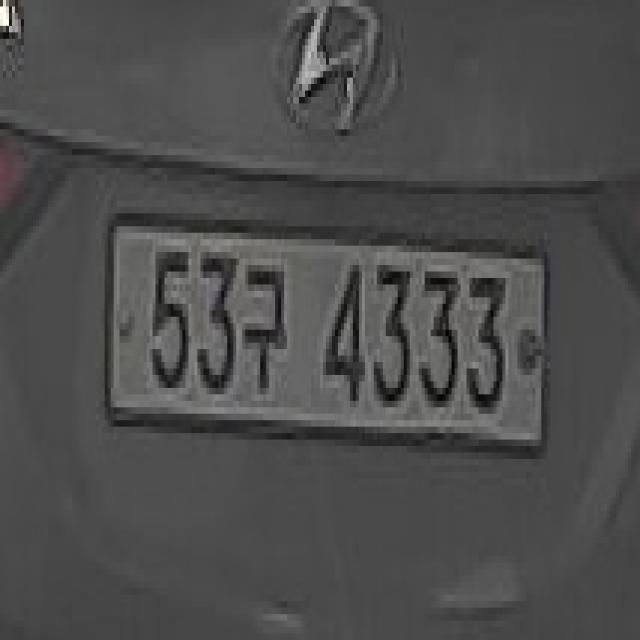3: (464, 259, 512, 433), (412, 246, 463, 407), (198, 246, 248, 407), (368, 258, 419, 414)
4: (320, 246, 368, 414)
5: (144, 252, 200, 382)
gu: (233, 252, 290, 394)
license_plate: (108, 207, 553, 452)
